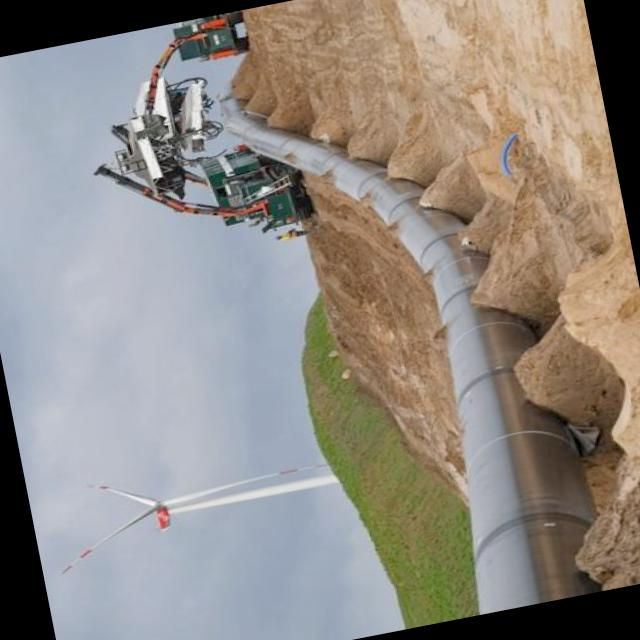gas: (217, 95, 603, 615)
